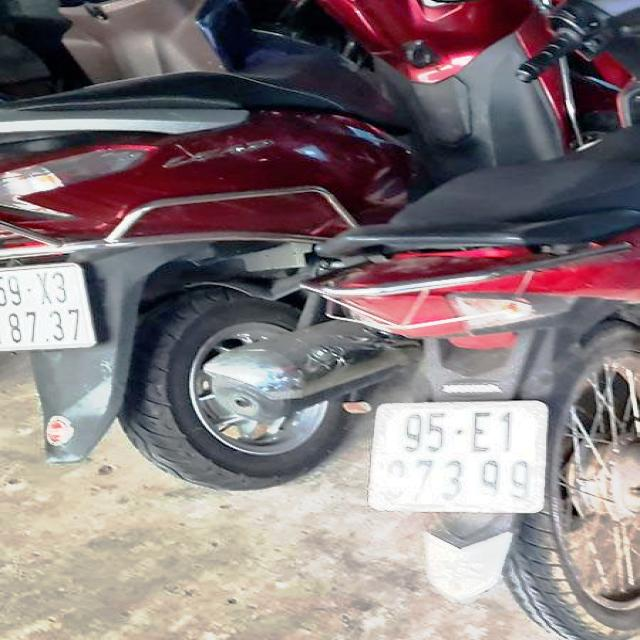license_plate: (372, 406, 551, 514)
